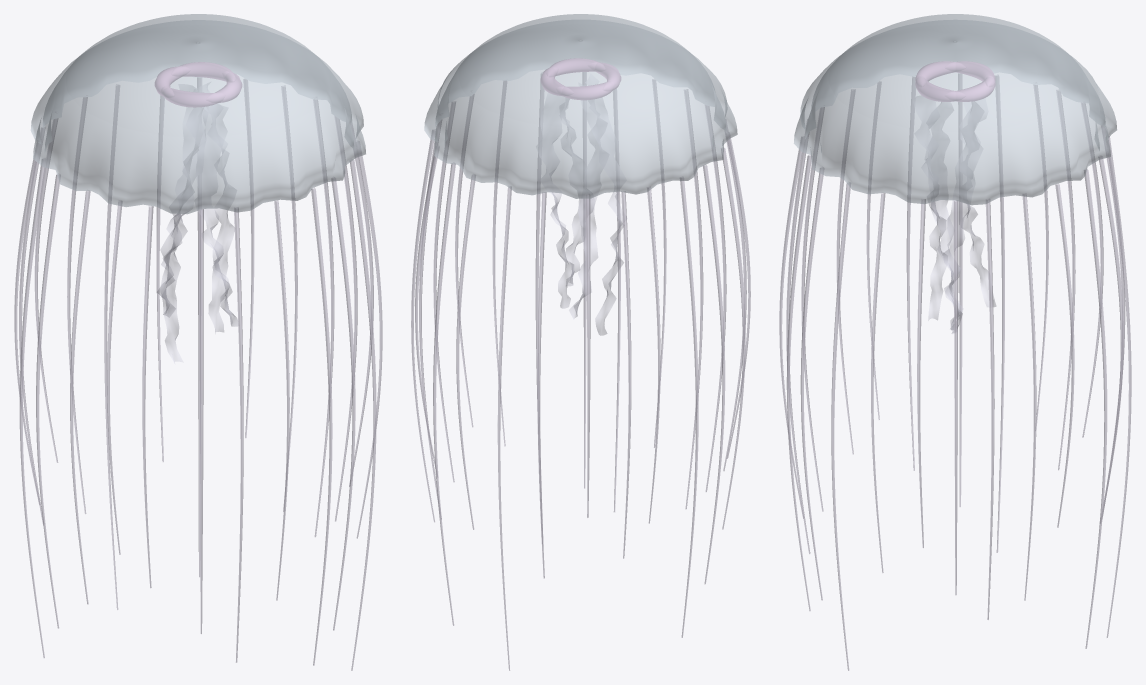
Rendered from jellyfish.glb.
3 renders of one model, left to right at view 1: azimuth 30°, elevation 25°; view 2: azimuth 150°, elevation 25°; view 3: azimuth 270°, elevation 25°, orthographic. The views are drawn at different scales.
Visible parts, largest first — view 1: Jellyfish; view 2: Jellyfish; view 3: Jellyfish.
Boxes of the visible parts, x1,y1,x2,y2 form: Jellyfish: [14, 14, 382, 670]; Jellyfish: [411, 14, 750, 670]; Jellyfish: [779, 14, 1131, 670].
Bounding box in the file's own units: 0.2696 × 0.5113 × 0.2697.
